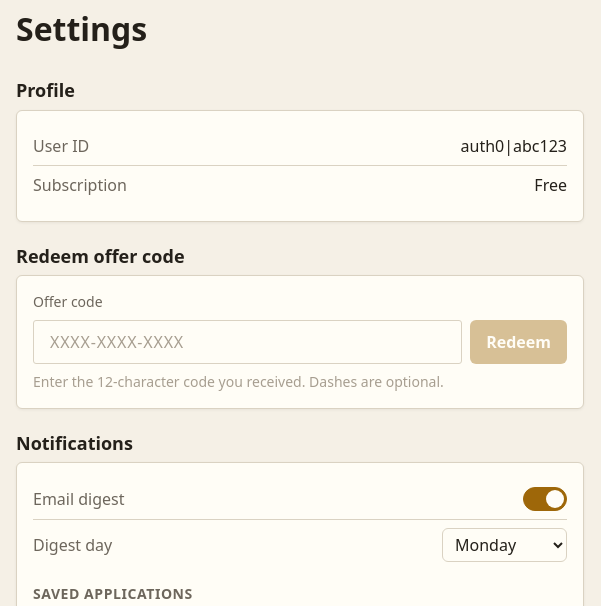
Test: SettingsPage — RedeemOfferCode integration › re-fetches the profile after a successful redemption so tier-gated UI updates
Expected: the text "Free" is shown, [534,174,567,197]
Step 1. Type "A7KM-ZQR3-FNXP" into the field labelled "Offer code" → (248, 342), box [33,320,462,364]
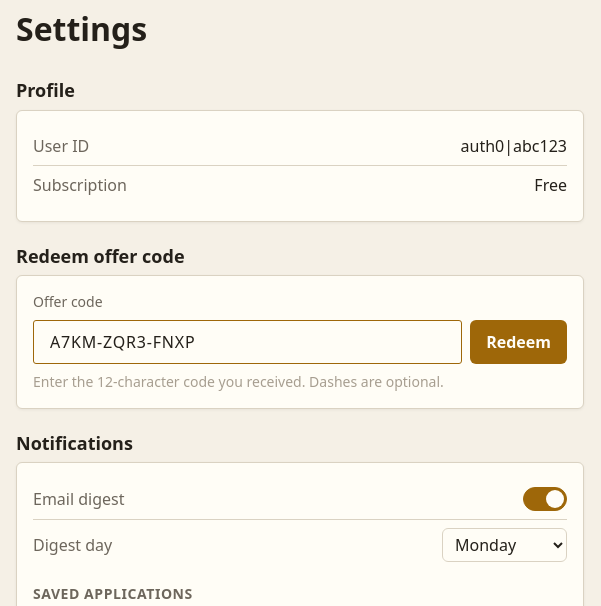
Step 2. Click the button "Redeem" → (519, 342), box [470,320,567,364]
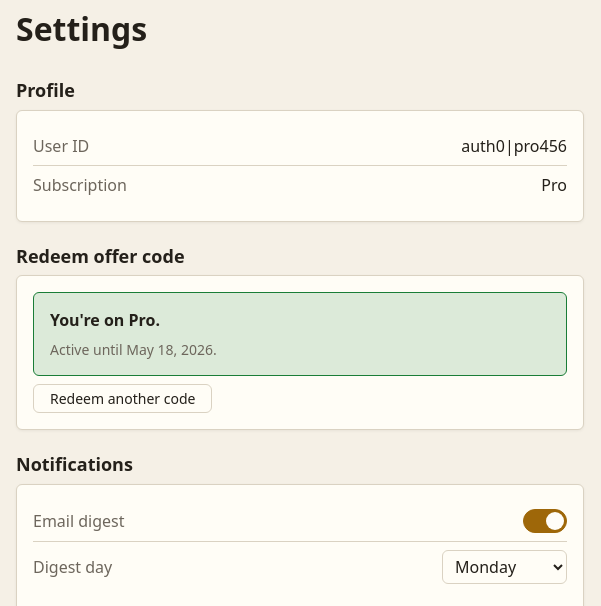
Result: the text "You're on Pro." is shown at [50,309,160,331]
Result: the text "Pro" is shown at [541,174,567,197]
